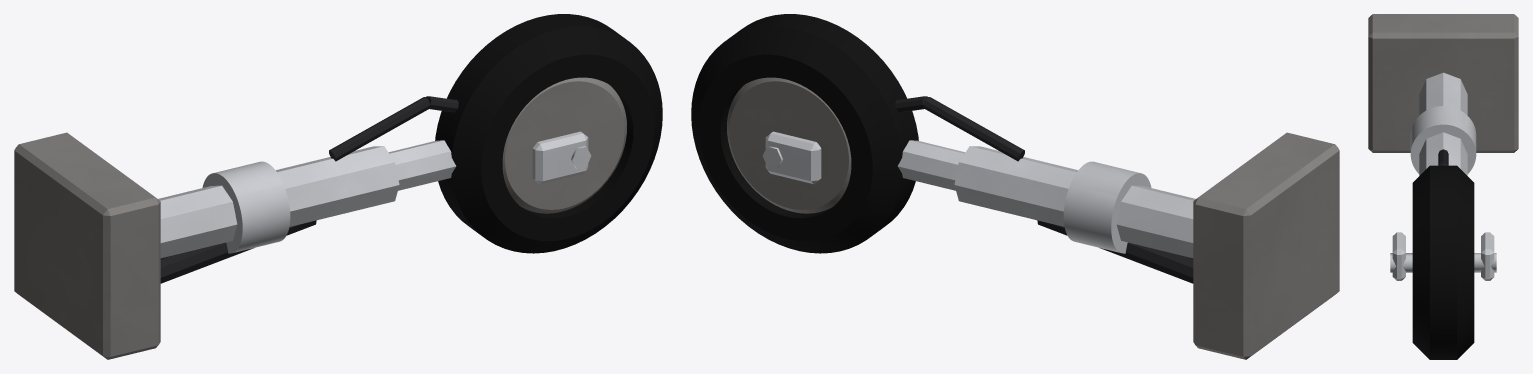
Rendered from ax_gear_01_nose_gear_s.glb.
3 renders of one model, left to right at view 1: azimuth 30°, elevation 25°; view 2: azimuth 150°, elevation 25°; view 3: azimuth 270°, elevation 25°, orthographic. The views are drawn at different scales.
Parts seen in each view (by area): view 1: wheel_tyres, mount_block, gear_leg, wheel_hubs, gear_links; view 2: wheel_tyres, mount_block, gear_leg, wheel_hubs, gear_links; view 3: mount_block, wheel_tyres, gear_leg, gear_axles, gear_links.
Part boxes in pixels (<box>): wheel_tyres: <box>435,14,662,253</box>; mount_block: <box>14,132,160,359</box>; gear_leg: <box>158,131,588,258</box>; wheel_hubs: <box>502,77,626,213</box>; gear_links: <box>160,96,458,283</box>; wheel_tyres: <box>691,14,918,253</box>; mount_block: <box>1193,132,1339,359</box>; gear_leg: <box>765,131,1195,258</box>; wheel_hubs: <box>727,77,851,213</box>; gear_links: <box>895,96,1193,283</box>; mount_block: <box>1368,14,1518,152</box>; wheel_tyres: <box>1412,165,1474,359</box>; gear_leg: <box>1392,72,1494,280</box>; gear_axles: <box>1390,253,1496,272</box>; gear_links: <box>1438,149,1448,165</box>.
Bounding box in the file's own units: 1.24 × 0.4399 × 0.34.
4 materials, 2 textured.
